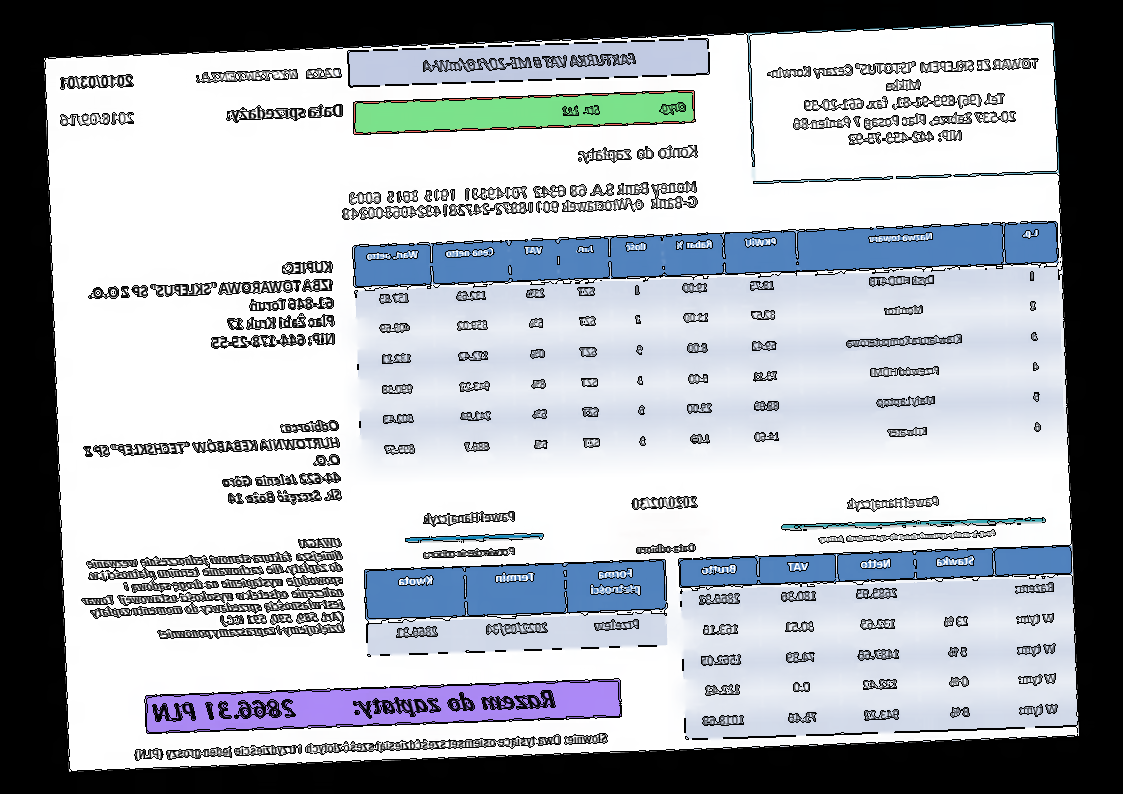Table: (352, 218, 1067, 472), (677, 544, 1078, 741), (364, 558, 669, 657)
TextBox: (75, 534, 346, 645), (766, 56, 1043, 149), (83, 416, 344, 513), (86, 256, 338, 356), (149, 684, 559, 729), (132, 729, 610, 765), (339, 179, 700, 222), (419, 50, 638, 76), (818, 527, 999, 547), (193, 63, 343, 87), (577, 142, 701, 166), (224, 101, 345, 125), (560, 100, 688, 120), (422, 508, 518, 530), (845, 491, 941, 512), (57, 109, 136, 130), (421, 544, 518, 561), (60, 71, 137, 92), (631, 493, 699, 513), (635, 541, 698, 556)
